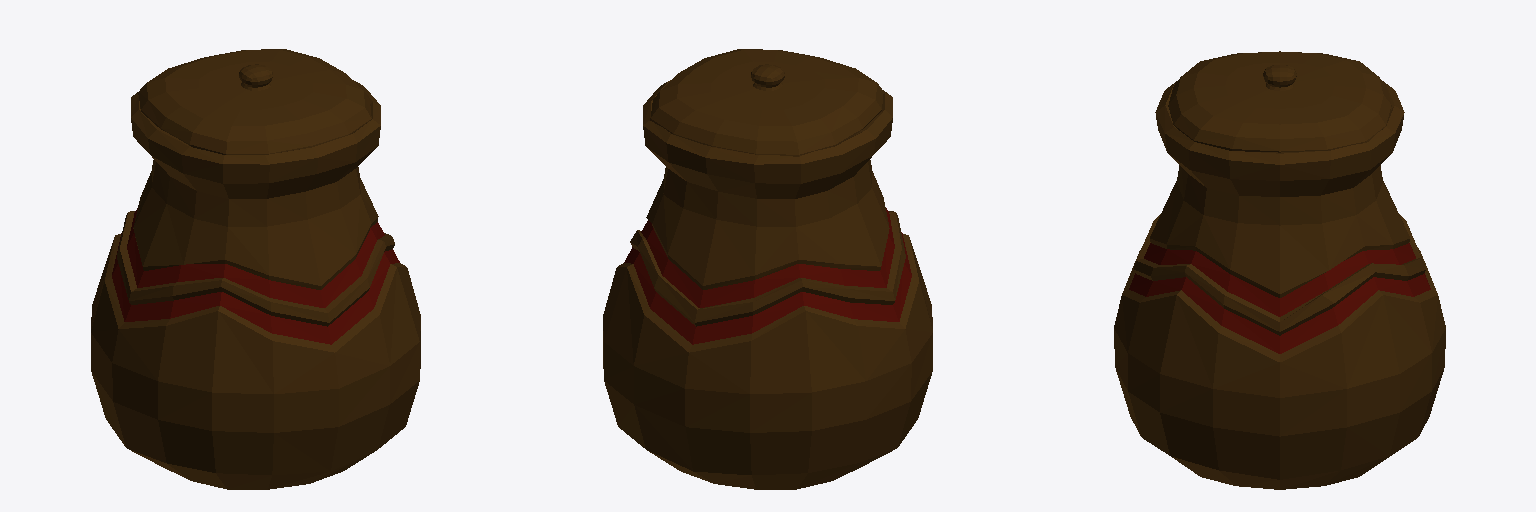
File: Pot1.obj
3 views of the same model, side by side, from view 1: azimuth 30°, elevation 25°; view 2: azimuth 150°, elevation 25°; view 3: azimuth 270°, elevation 25° (orthographic).
Visible parts, largest first — view 1: Pot1_Cube.103; view 2: Pot1_Cube.103; view 3: Pot1_Cube.103.
Part boxes in pixels (bbox=[...]): Pot1_Cube.103: bbox=[91, 49, 420, 489]; Pot1_Cube.103: bbox=[603, 49, 932, 489]; Pot1_Cube.103: bbox=[1114, 51, 1445, 489].
Size of the model in its own units: 0.7684 by 0.9617 by 0.7683.